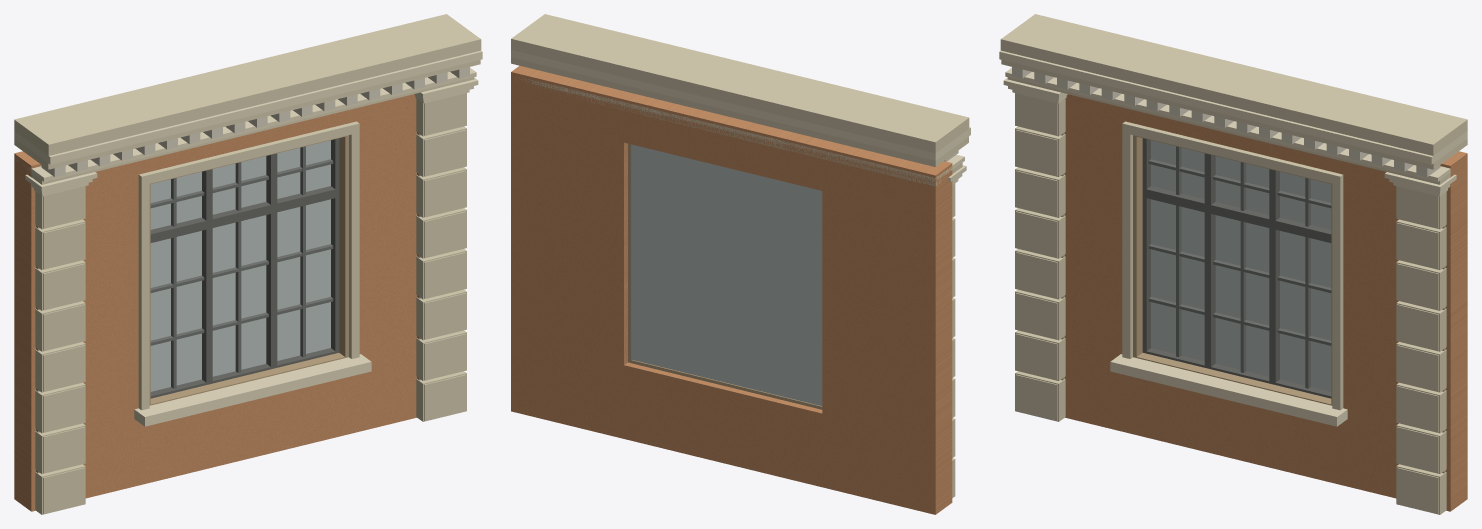
Rendered from wanping-7-casement-and-cornice-near.glb.
3 renders of one model, left to right at view 1: azimuth 30°, elevation 25°; view 2: azimuth 150°, elevation 25°; view 3: azimuth 330°, elevation 25°, orthographic.
Parts seen in each view (by area): view 1: 宛平路7号上层三联格窗与齿饰檐口; view 2: 宛平路7号上层三联格窗与齿饰檐口; view 3: 宛平路7号上层三联格窗与齿饰檐口.
Part boxes in pixels (x1,y1,x2,y2): 宛平路7号上层三联格窗与齿饰檐口: [14, 14, 482, 514]; 宛平路7号上层三联格窗与齿饰檐口: [511, 14, 970, 514]; 宛平路7号上层三联格窗与齿饰檐口: [999, 14, 1467, 514].
Size of the model in its own units: 3.07 by 2.55 by 0.439.
Materials: 9 (1 with a texture image).
